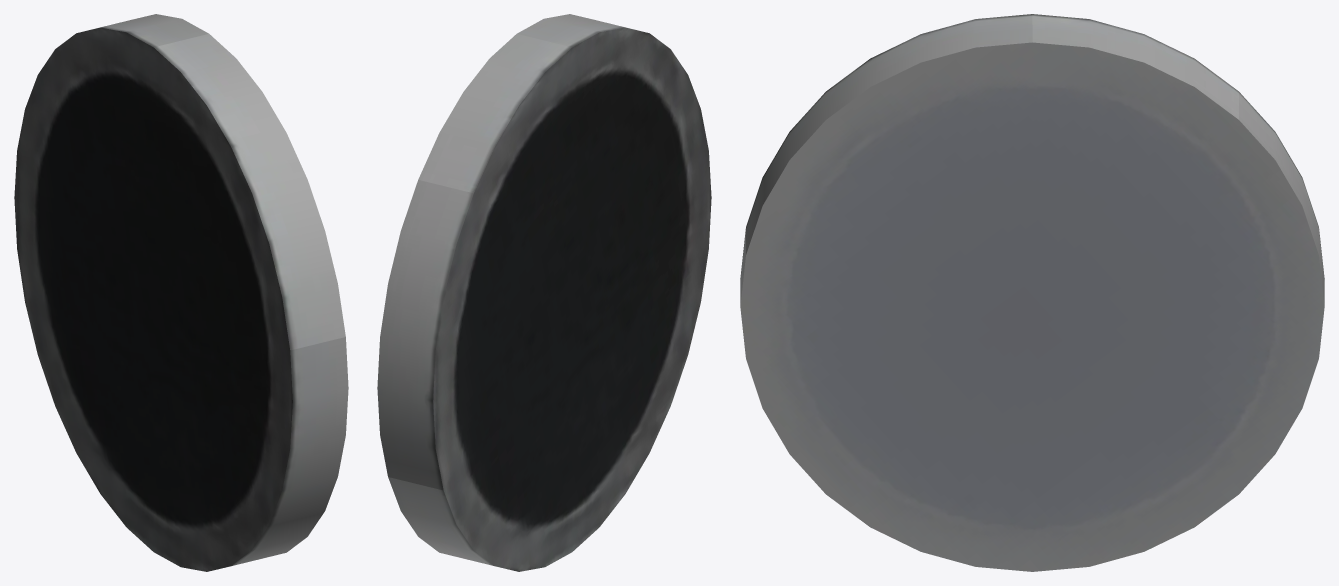
The model's file is knob__knob_skirt.glb.
The picture shows the model from 3 angles, left to right: view 1: azimuth 30°, elevation 25°; view 2: azimuth 150°, elevation 25°; view 3: azimuth 270°, elevation 25°; orthographic projection. The views are drawn at different scales.
Visible parts, largest first — view 1: geometry_0; view 2: geometry_0; view 3: geometry_0.
Part boxes in pixels (x1,y1,x2,y2): geometry_0: [14, 14, 348, 571]; geometry_0: [377, 14, 711, 571]; geometry_0: [740, 14, 1324, 571].
Size of the model in its own units: 0.006 by 0.052 by 0.052.
Materials: 1 (1 with a texture image).
